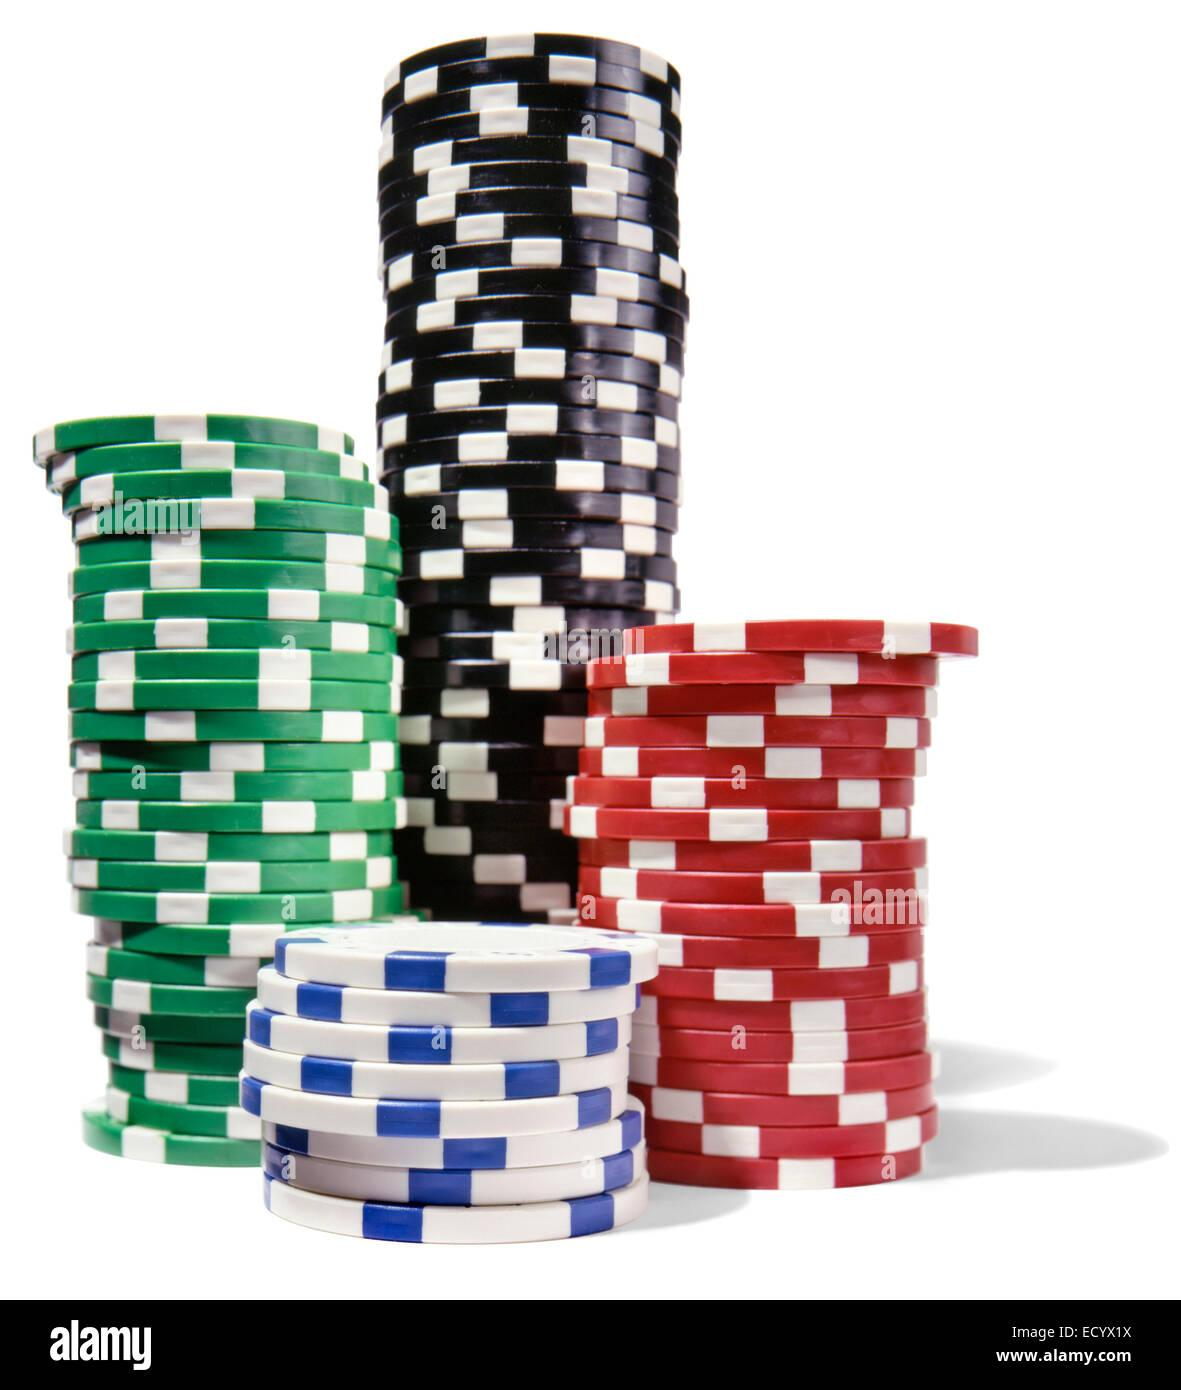chip-green: (33, 415, 356, 466), (46, 440, 369, 491), (62, 470, 388, 515), (76, 530, 402, 573), (74, 883, 402, 925), (70, 559, 396, 598), (74, 590, 396, 627), (68, 856, 396, 892), (68, 619, 396, 654), (82, 1102, 260, 1166), (68, 679, 400, 711), (74, 769, 402, 802), (76, 800, 402, 833), (66, 829, 394, 860), (74, 649, 400, 681), (70, 741, 400, 771), (70, 711, 400, 741), (200, 497, 400, 540), (95, 919, 312, 958), (105, 1086, 260, 1139), (87, 942, 266, 987), (87, 976, 255, 1015), (95, 1006, 243, 1044), (109, 1064, 239, 1106), (103, 1036, 240, 1075), (74, 513, 97, 539)
chip-red: (274, 924, 657, 994), (579, 893, 917, 936), (646, 1109, 940, 1158), (624, 619, 977, 657), (630, 1083, 934, 1126), (587, 652, 936, 689), (579, 866, 926, 904), (630, 1021, 926, 1064), (565, 804, 909, 840), (630, 1054, 931, 1095), (633, 990, 926, 1031), (641, 959, 923, 1001), (583, 714, 931, 748), (567, 776, 915, 809), (646, 1149, 923, 1190), (589, 684, 936, 717), (579, 747, 926, 779), (579, 839, 926, 872), (649, 932, 923, 968)
chip-white: (274, 924, 657, 994), (264, 1174, 649, 1243), (239, 1075, 627, 1138), (264, 1142, 646, 1205), (247, 1002, 630, 1064), (264, 1108, 643, 1170), (245, 1040, 630, 1101), (258, 967, 641, 1027)
